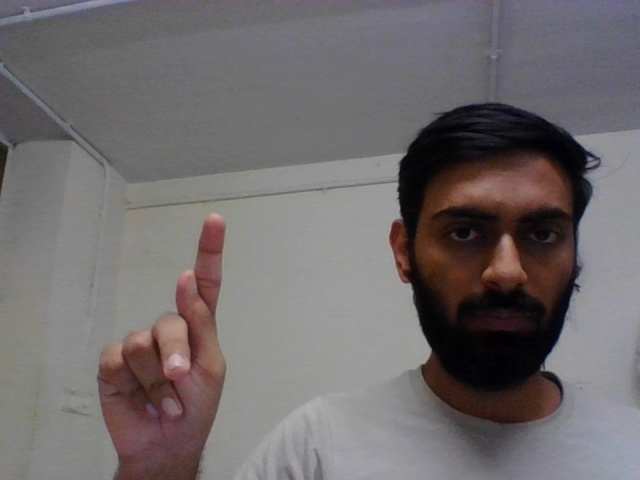K: (90, 207, 238, 480)
